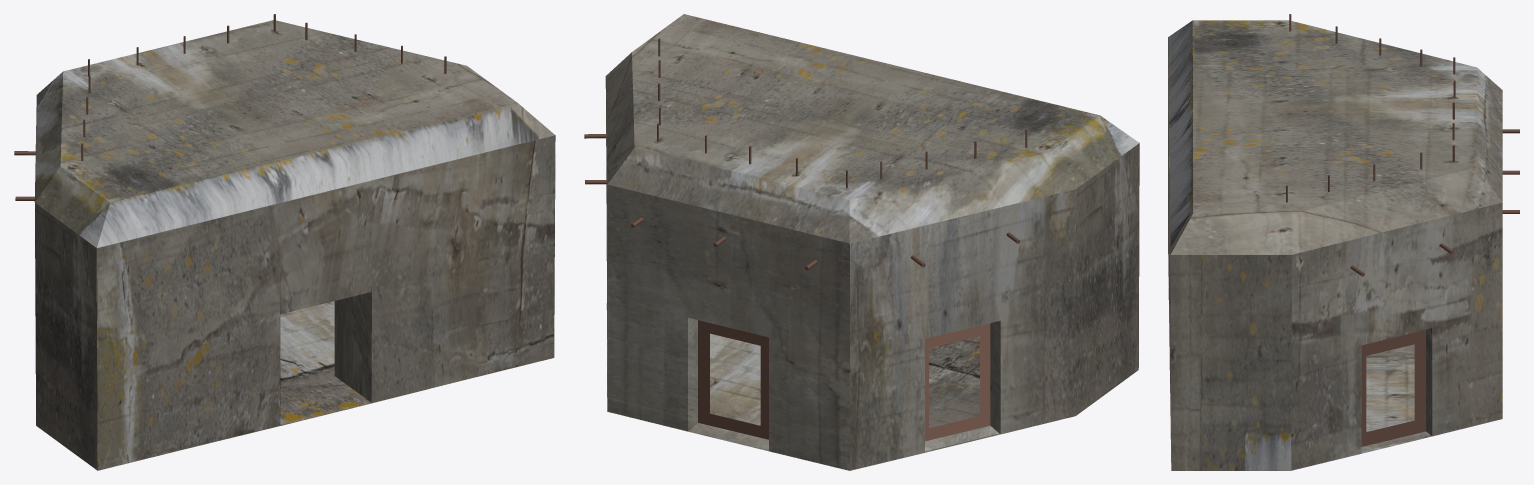
Rendered from stekelvarken_s3_kazemat_dutch_wwii_bunker.glb.
The picture shows the model from 3 angles, left to right: view 1: azimuth 30°, elevation 25°; view 2: azimuth 150°, elevation 25°; view 3: azimuth 270°, elevation 25°; orthographic projection. The views are drawn at different scales.
Parts seen in each view (by area): view 1: Cube.001; view 2: Cube.001, metal2, Plane; view 3: Cube.001, metal3.
Part boxes in pixels (x1,y1,x2,y2): Cube.001: (34, 20, 555, 470); Cube.001: (605, 14, 1139, 470); metal2: (698, 320, 768, 439); Plane: (925, 323, 990, 441); Cube.001: (1168, 20, 1502, 470); metal3: (1361, 329, 1425, 446).
Size of the model in its own units: 1.75 by 0.9794 by 1.19.
Materials: 4 (3 with a texture image).
